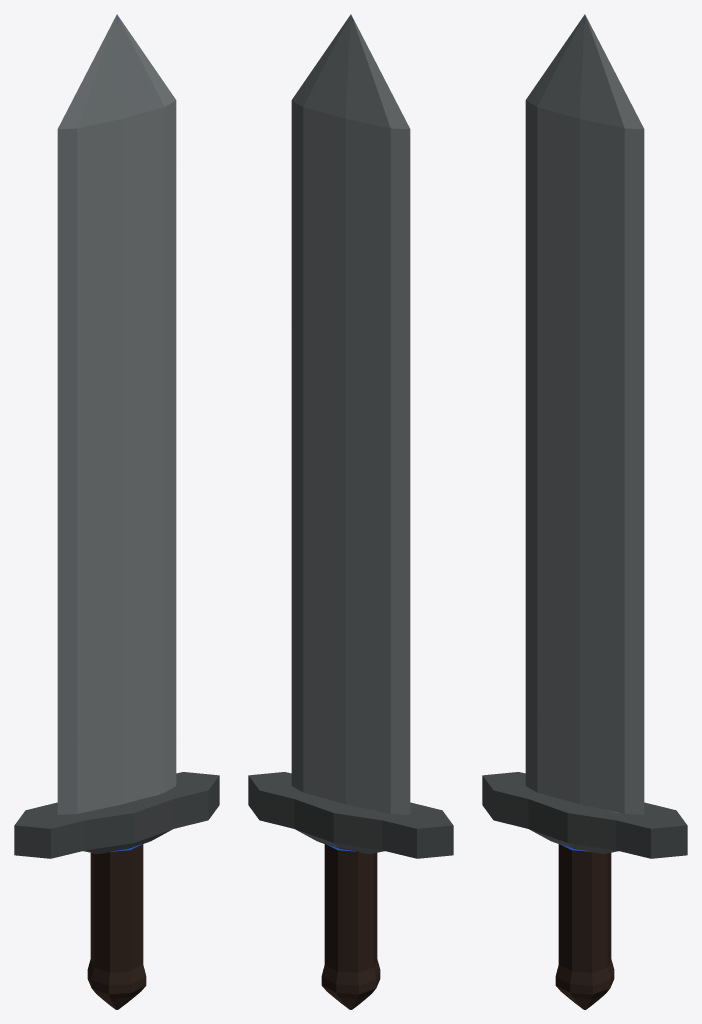
The model's file is Espadaloca (1).fbx.
The picture shows the model from 3 angles, left to right: view 1: azimuth 30°, elevation 25°; view 2: azimuth 150°, elevation 25°; view 3: azimuth 330°, elevation 25°; orthographic projection.
Parts seen in each view (by area): view 1: Cube; view 2: Cube; view 3: Cube.
Boxes of the visible parts, x1,y1,x2,y2 form: Cube: (14, 14, 219, 1009); Cube: (248, 14, 453, 1009); Cube: (482, 14, 687, 1009).
Bounding box in the file's own units: 182 × 842 × 53.15.
1 material, 1 textured.
